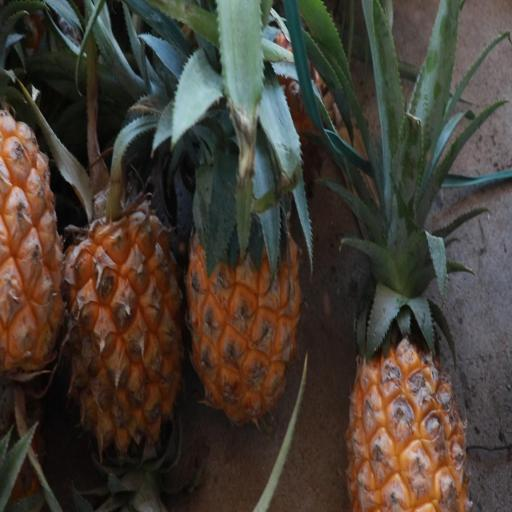Pineapple - v8 v1: (343, 138, 476, 511), (180, 113, 306, 437), (62, 153, 190, 470), (1, 100, 69, 420)
